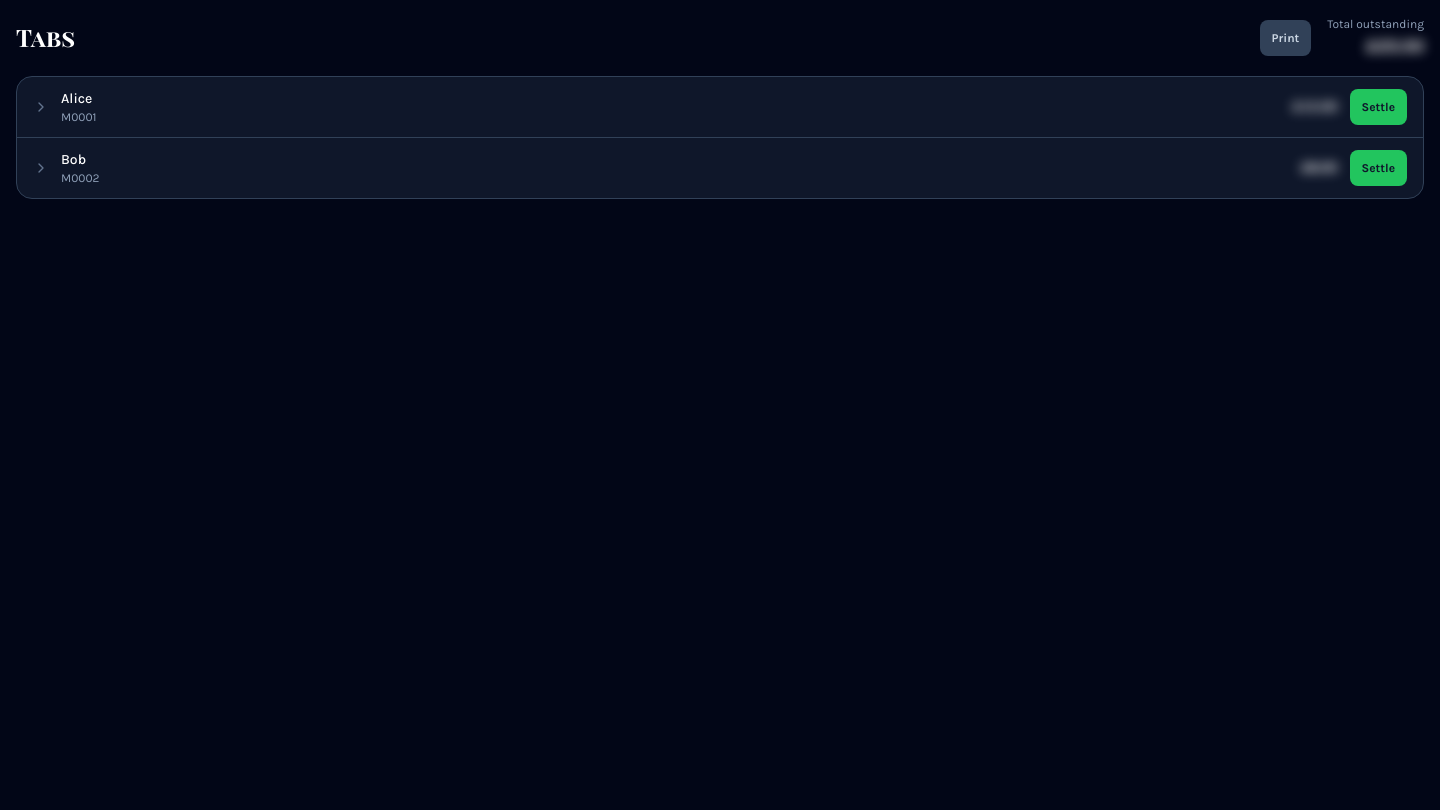
Test: TabsPage › closes modal without removing member when Cancel is clicked
The image size is (1440, 810).
What coordinates should you click on to do the following:
click the 1st button "Settle"
I would click on:
 (1378, 107)
Its box is [1350,89,1407,125].
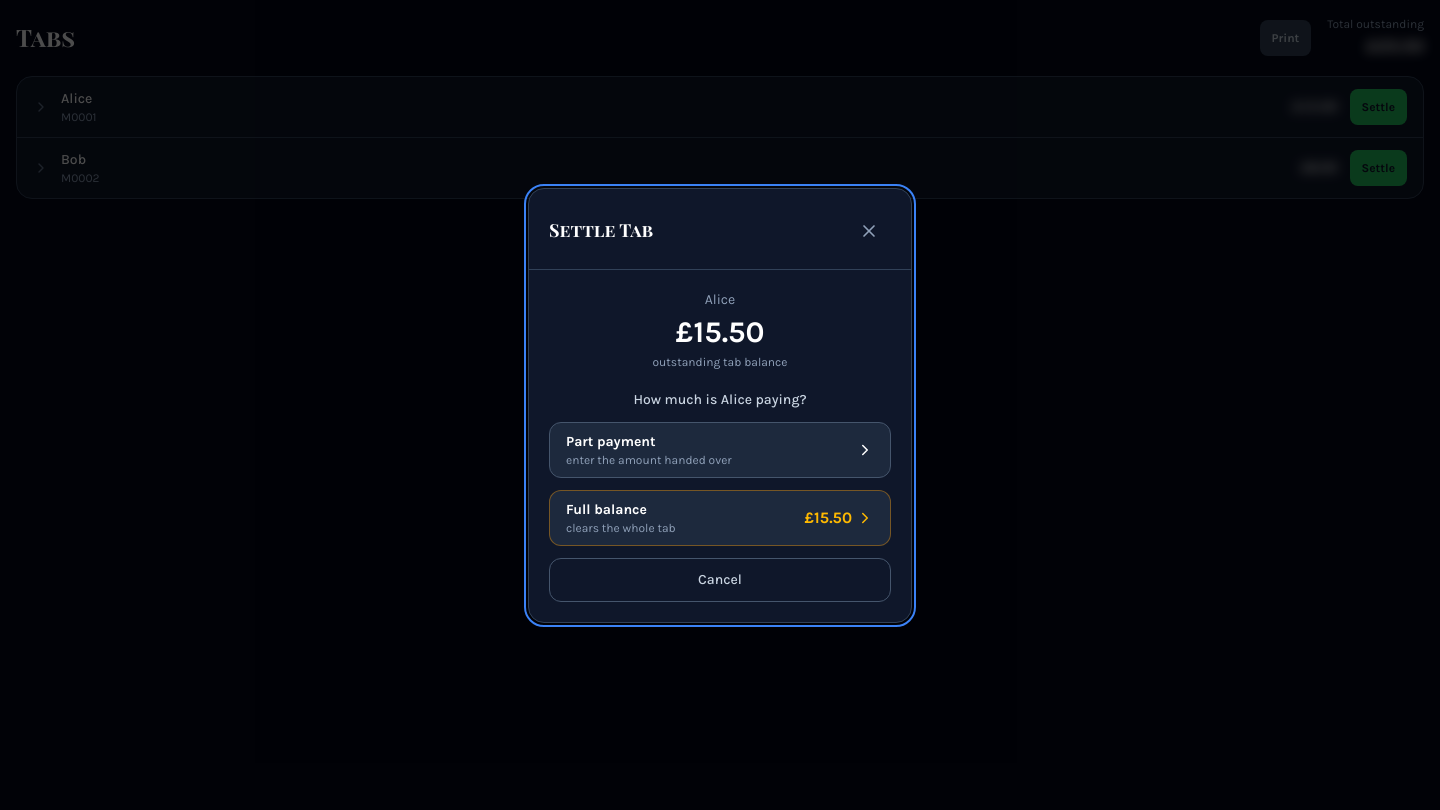
What coordinates should you click on to do the following:
click the button "Cancel"
I would click on:
 (720, 580)
Its box is [549,558,891,602].
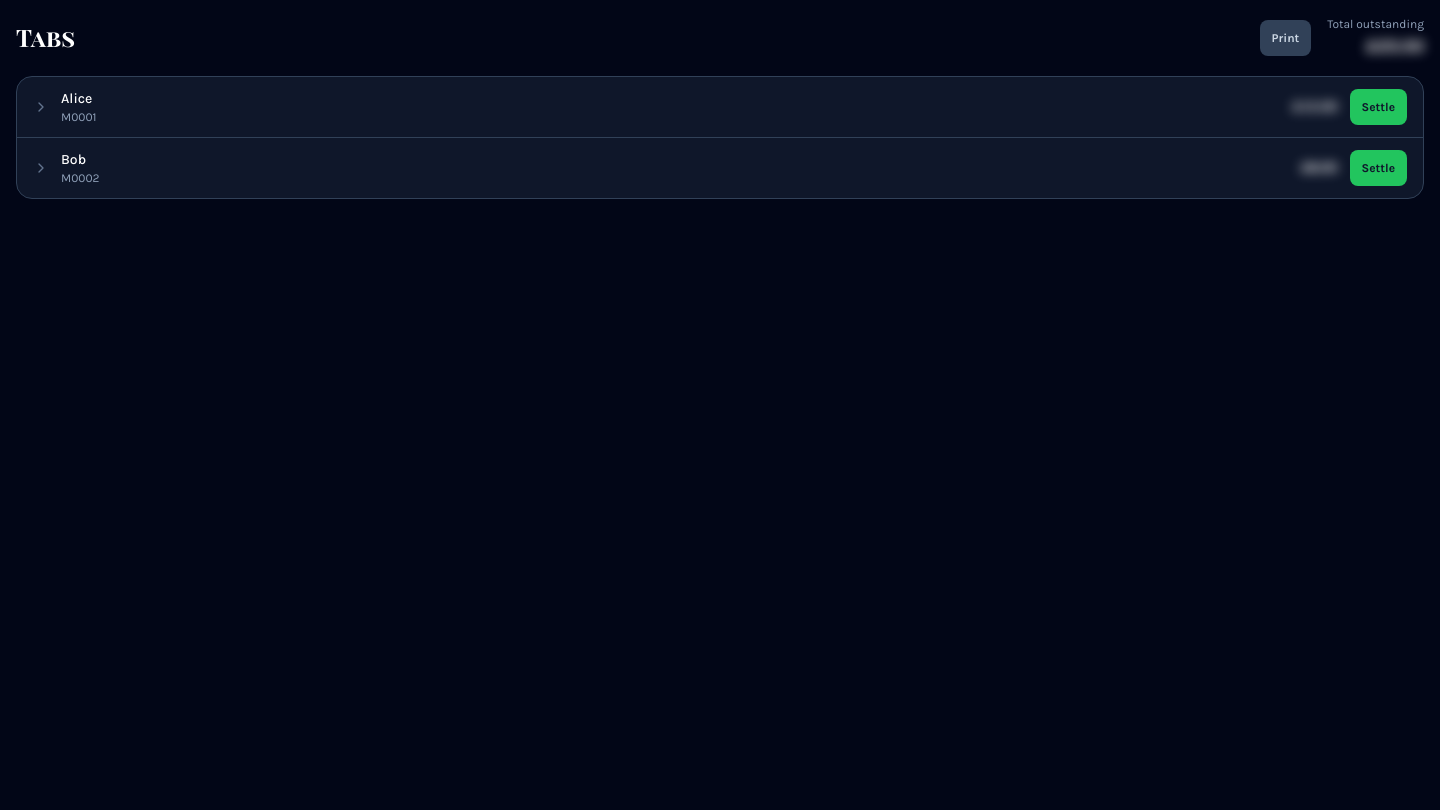
Check: the text "Alice" is shown, box [61,90,92,107]
Check: the dialog is gone
